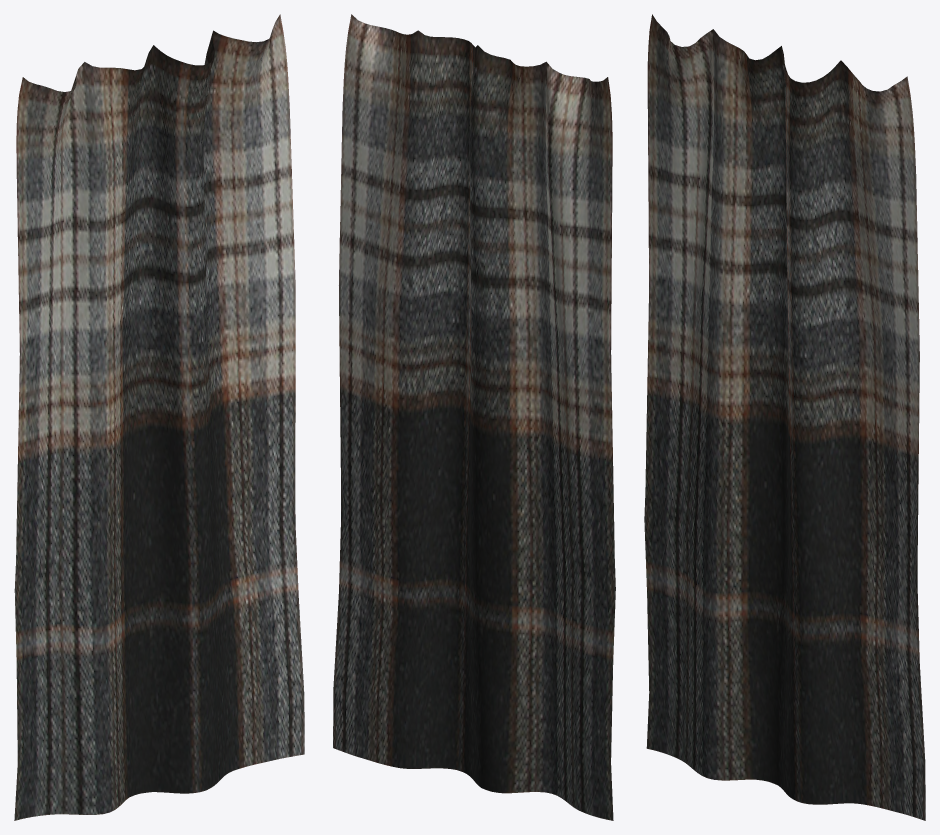
Rendered from Curtain02_right.FBX.
3 renders of one model, left to right at view 1: azimuth 30°, elevation 25°; view 2: azimuth 150°, elevation 25°; view 3: azimuth 330°, elevation 25°, orthographic.
Parts seen in each view (by area): view 1: Curtain02_right_LOD0; view 2: Curtain02_right_LOD0; view 3: Curtain02_right_LOD0.
Boxes of the visible parts, x1,y1,x2,y2 form: Curtain02_right_LOD0: [14, 14, 304, 820]; Curtain02_right_LOD0: [333, 14, 615, 820]; Curtain02_right_LOD0: [644, 14, 925, 820].
Size of the model in its own units: 104 by 15.44 by 260.
